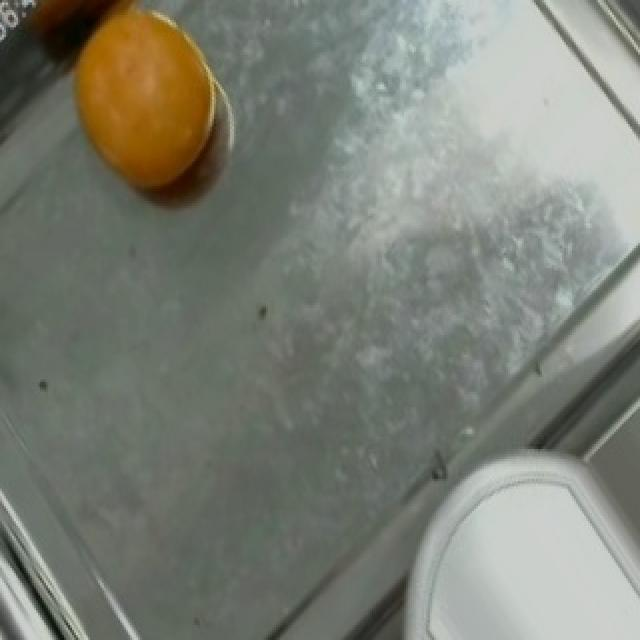Fruit: (404, 462, 640, 638), (46, 0, 240, 208)
